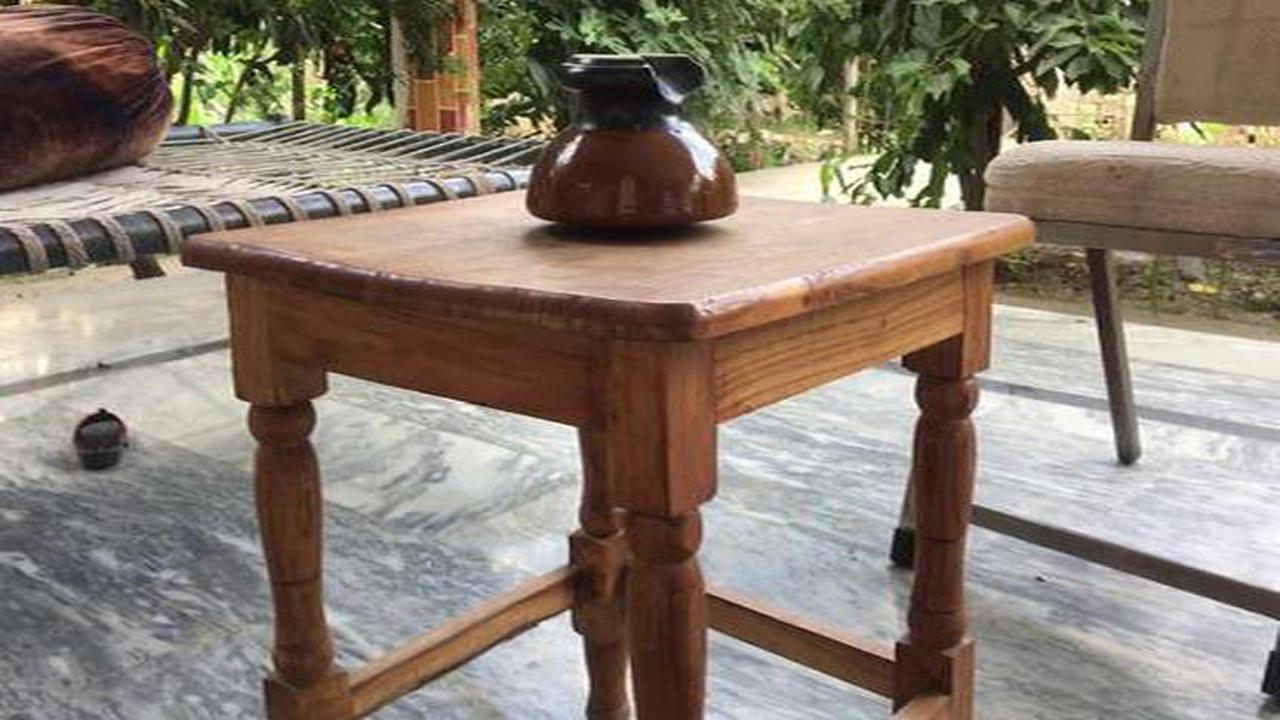insulator_pin: (514, 30, 748, 241)
